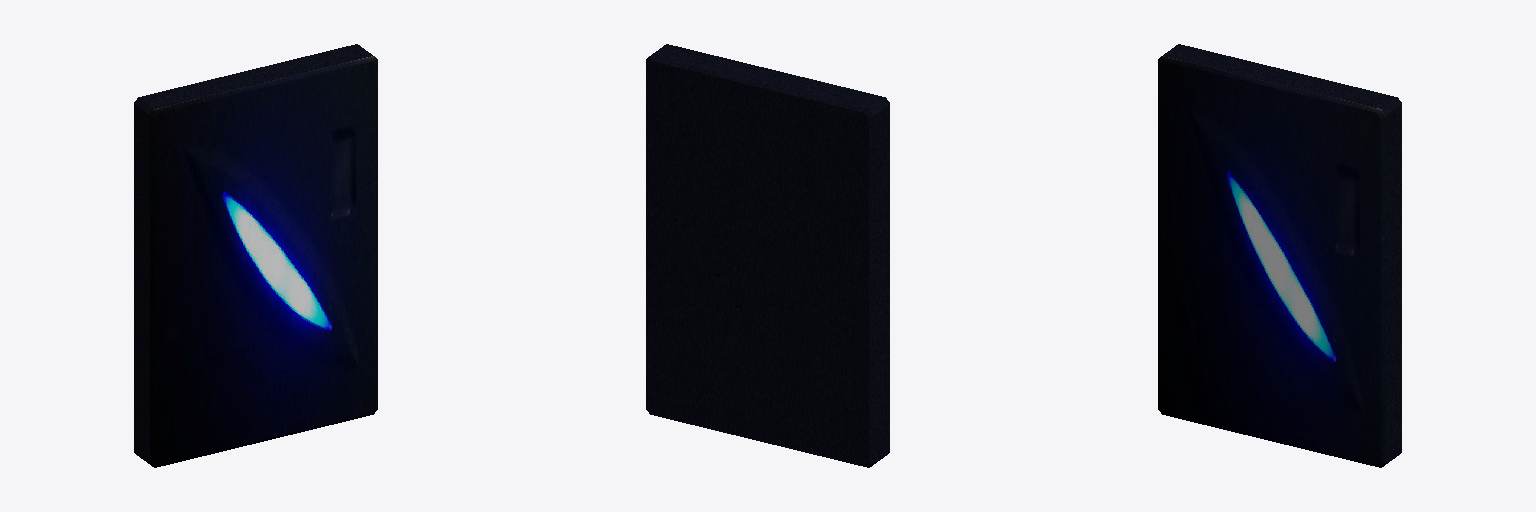
The picture shows the model from 3 angles: view 1: azimuth 30°, elevation 25°; view 2: azimuth 150°, elevation 25°; view 3: azimuth 330°, elevation 25°; orthographic projection.
Visible parts, largest first — view 1: xgskq_model; view 2: xgskq_model; view 3: xgskq_model.
Boxes of the visible parts, <box> form: xgskq_model: <box>134,44,377,467</box>; xgskq_model: <box>646,44,889,467</box>; xgskq_model: <box>1158,44,1401,467</box>.
Bounding box in the file's own units: 14 × 21 × 2.1.
Materials: 1 (1 with a texture image).